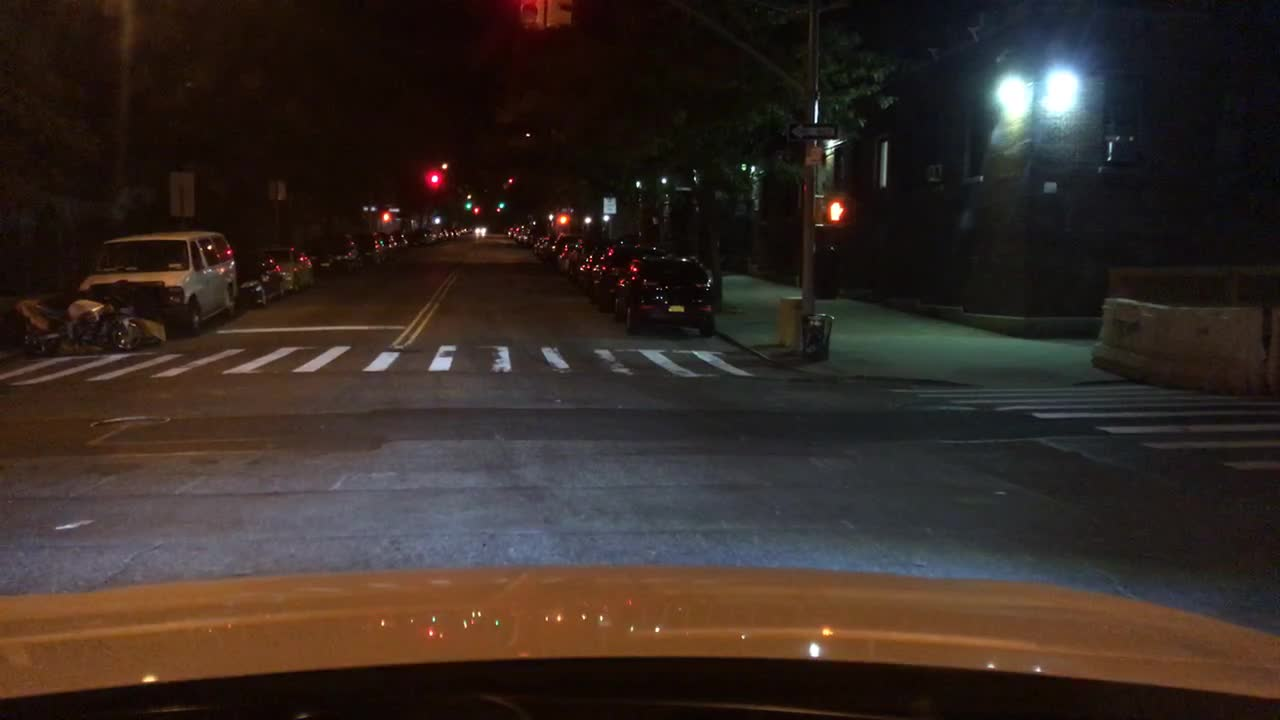car: (78, 232, 240, 336), (608, 257, 713, 336), (583, 245, 661, 309), (232, 248, 286, 308), (248, 244, 314, 293), (305, 229, 361, 275), (572, 245, 603, 289), (549, 232, 578, 269), (561, 245, 591, 280), (364, 232, 393, 264), (556, 242, 583, 274), (541, 238, 556, 265), (391, 229, 410, 248), (410, 227, 429, 245), (530, 234, 546, 255), (519, 224, 532, 245), (474, 223, 489, 239), (436, 227, 450, 242), (511, 222, 521, 242), (426, 228, 437, 245), (502, 227, 515, 238), (447, 227, 456, 240), (466, 224, 475, 234), (456, 227, 467, 234)
person: (646, 215, 661, 245)
traffic light: (542, 0, 571, 29), (519, 0, 544, 32), (822, 197, 843, 224), (426, 169, 440, 187), (556, 212, 568, 229), (379, 212, 390, 223), (471, 205, 481, 217), (497, 202, 506, 212), (432, 215, 441, 225), (465, 200, 471, 212)
traffic sign: (167, 172, 197, 217), (788, 122, 838, 140), (267, 180, 283, 202), (804, 147, 822, 165), (603, 197, 616, 214)
